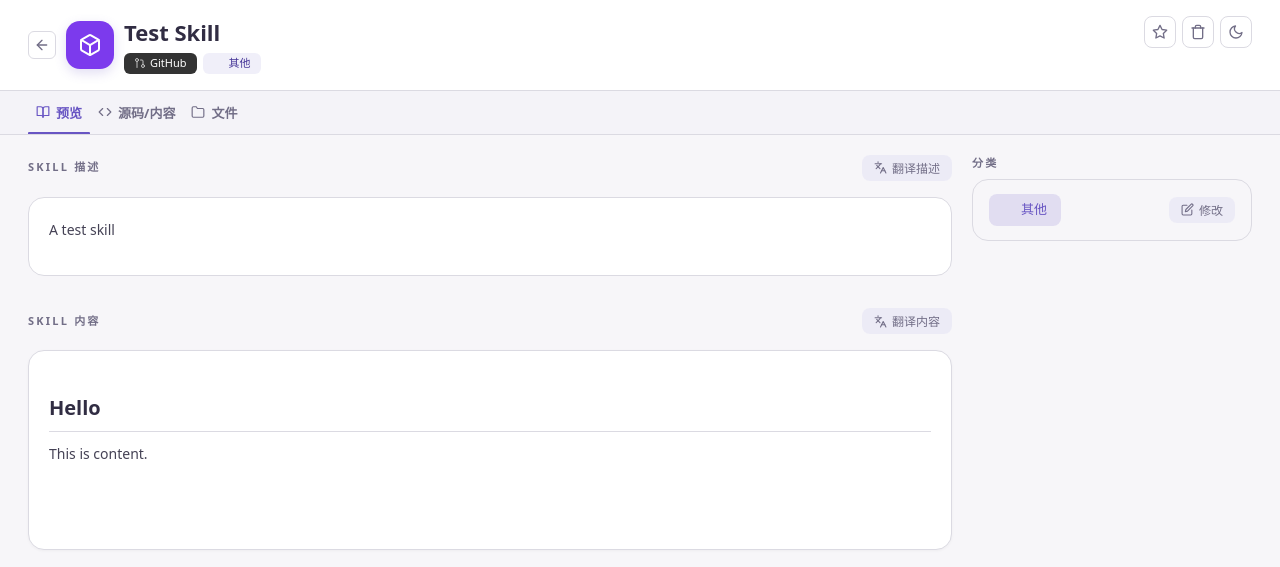
Scenario: SkillDetailBase › source tab shows metadata cards
Step 1. Click the button "源码/内容" → coordinates (137, 112), box [90, 90, 183, 134]
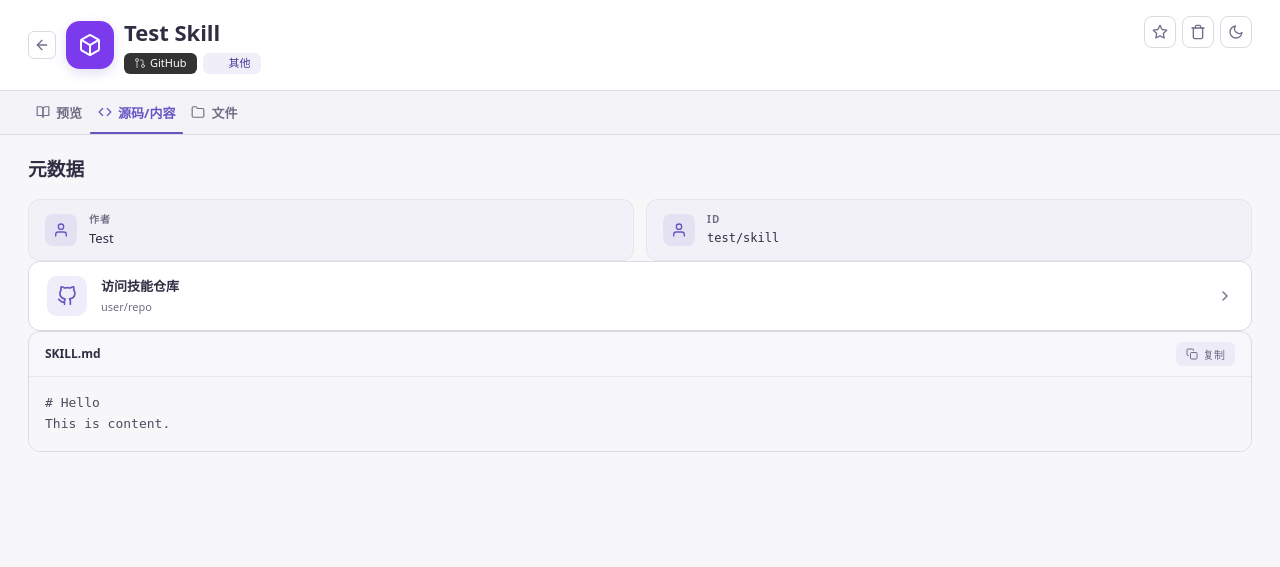
Now the element with class "metadata-cards" is shown, box [28, 199, 1252, 261]
Now the text with class "mono" reads "test/skill", box [707, 231, 779, 245]
